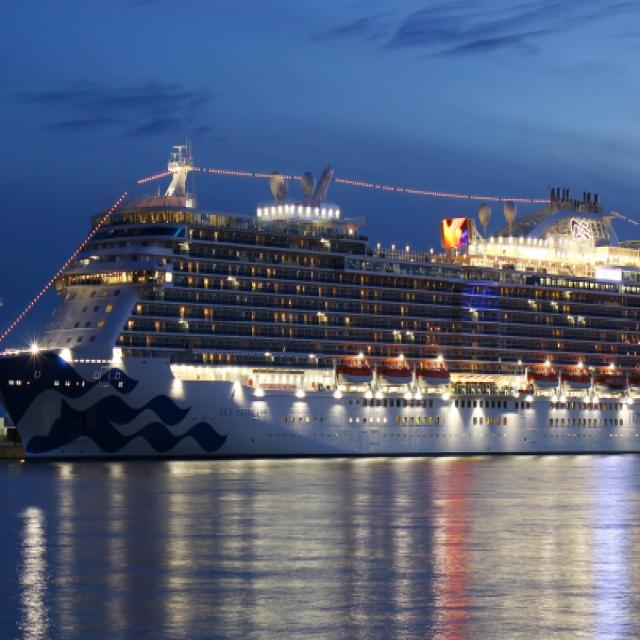cruises: (1, 137, 640, 468)
